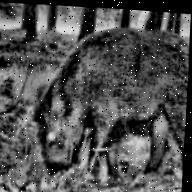boar: (17, 13, 191, 192)
